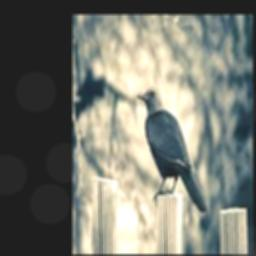Crow: (137, 85, 208, 212)
